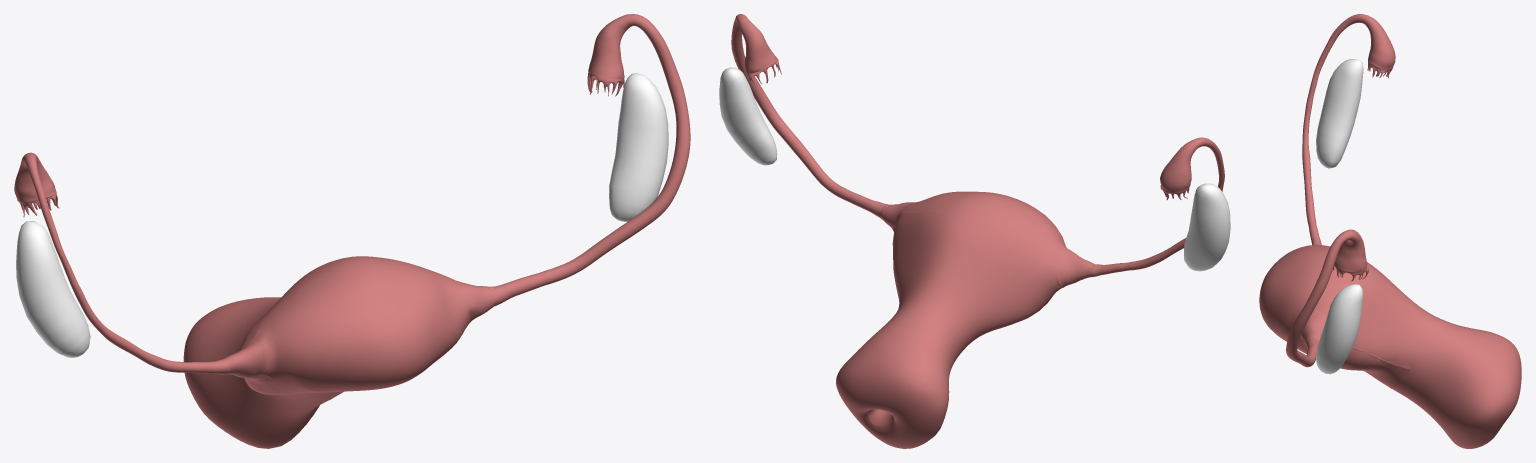
The model's file is female-reproductive.glb.
3 renders of one model, left to right at view 1: azimuth 30°, elevation 25°; view 2: azimuth 150°, elevation 25°; view 3: azimuth 270°, elevation 25°, orthographic. The views are drawn at different scales.
Visible parts, largest first — view 1: VH_F_fundus_of_uterus, VH_F_cervix, VH_F_left_ovary, VH_F_right_ovary, VH_F_ampulla_of_uterine_tube_L, VH_F_ampulla_of_uterine_tube_R, VH_F_cornua, VH_F_uterine_tube_infundibulum_L, VH_F_posterior_wall_of_uterus, VH_F_uterine_tube_infundibulum_R, VH_F_lower_uterine_segment, VH_F_isthmus_of_fallopian_tube_L (+1 smaller); view 2: VH_F_body_of_uterus, VH_F_cervix, VH_F_fundus_of_uterus, VH_F_left_ovary, VH_F_right_ovary, VH_F_ampulla_of_uterine_tube_L, VH_F_lower_uterine_segment, VH_F_cornua, VH_F_uterine_tube_infundibulum_R, VH_F_uterine_tube_infundibulum_L, VH_F_ampulla_of_uterine_tube_R; view 3: VH_F_cervix, VH_F_body_of_uterus, VH_F_fundus_of_uterus, VH_F_right_ovary, VH_F_left_ovary, VH_F_lower_uterine_segment, VH_F_ampulla_of_uterine_tube_L, VH_F_ampulla_of_uterine_tube_R, VH_F_uterine_tube_infundibulum_R, VH_F_uterine_tube_infundibulum_L, VH_F_posterior_wall_of_uterus, VH_F_cornua (+1 smaller).
Part boxes in pixels (x1=…): VH_F_fundus_of_uterus: x1=252, y1=256, x2=472, y2=390; VH_F_cervix: x1=183, y1=297, x2=319, y2=448; VH_F_left_ovary: x1=609, y1=73, x2=668, y2=221; VH_F_right_ovary: x1=16, y1=221, x2=90, y2=357; VH_F_ampulla_of_uterine_tube_L: x1=539, y1=14, x2=690, y2=285; VH_F_ampulla_of_uterine_tube_R: x1=24, y1=153, x2=190, y2=372; VH_F_cornua: x1=223, y1=281, x2=494, y2=378; VH_F_uterine_tube_infundibulum_L: x1=588, y1=14, x2=630, y2=79; VH_F_posterior_wall_of_uterus: x1=256, y1=333, x2=462, y2=402; VH_F_uterine_tube_infundibulum_R: x1=14, y1=152, x2=56, y2=201; VH_F_lower_uterine_segment: x1=244, y1=298, x2=325, y2=411; VH_F_isthmus_of_fallopian_tube_L: x1=490, y1=273, x2=543, y2=306; VH_F_body_of_uterus: x1=892, y1=212, x2=1062, y2=343; VH_F_cervix: x1=836, y1=318, x2=954, y2=448; VH_F_fundus_of_uterus: x1=898, y1=191, x2=1067, y2=256; VH_F_left_ovary: x1=719, y1=67, x2=777, y2=165; VH_F_right_ovary: x1=1184, y1=183, x2=1230, y2=271; VH_F_ampulla_of_uterine_tube_L: x1=731, y1=14, x2=851, y2=201; VH_F_lower_uterine_segment: x1=889, y1=298, x2=971, y2=363; VH_F_cornua: x1=882, y1=202, x2=1093, y2=287; VH_F_uterine_tube_infundibulum_R: x1=1160, y1=140, x2=1198, y2=193; VH_F_uterine_tube_infundibulum_L: x1=738, y1=18, x2=777, y2=73; VH_F_ampulla_of_uterine_tube_R: x1=1125, y1=137, x2=1224, y2=270; VH_F_cervix: x1=1414, y1=324, x2=1521, y2=448; VH_F_body_of_uterus: x1=1342, y1=262, x2=1429, y2=375; VH_F_fundus_of_uterus: x1=1259, y1=245, x2=1355, y2=350; VH_F_right_ovary: x1=1316, y1=59, x2=1363, y2=168; VH_F_left_ovary: x1=1316, y1=284, x2=1362, y2=374; VH_F_lower_uterine_segment: x1=1392, y1=313, x2=1455, y2=401; VH_F_ampulla_of_uterine_tube_L: x1=1286, y1=230, x2=1353, y2=367; VH_F_ampulla_of_uterine_tube_R: x1=1302, y1=14, x2=1367, y2=225; VH_F_uterine_tube_infundibulum_R: x1=1363, y1=15, x2=1395, y2=69; VH_F_uterine_tube_infundibulum_L: x1=1334, y1=229, x2=1367, y2=272; VH_F_posterior_wall_of_uterus: x1=1274, y1=332, x2=1410, y2=388; VH_F_cornua: x1=1300, y1=244, x2=1325, y2=345.
Size of the model in its own units: 0.1274 by 0.0791 by 0.0587.
